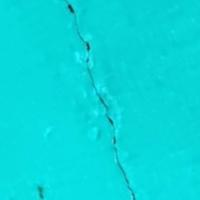crack: (58, 2, 138, 199)
